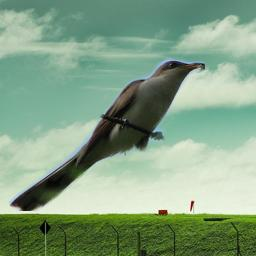Cuckoo: (9, 57, 205, 211)
